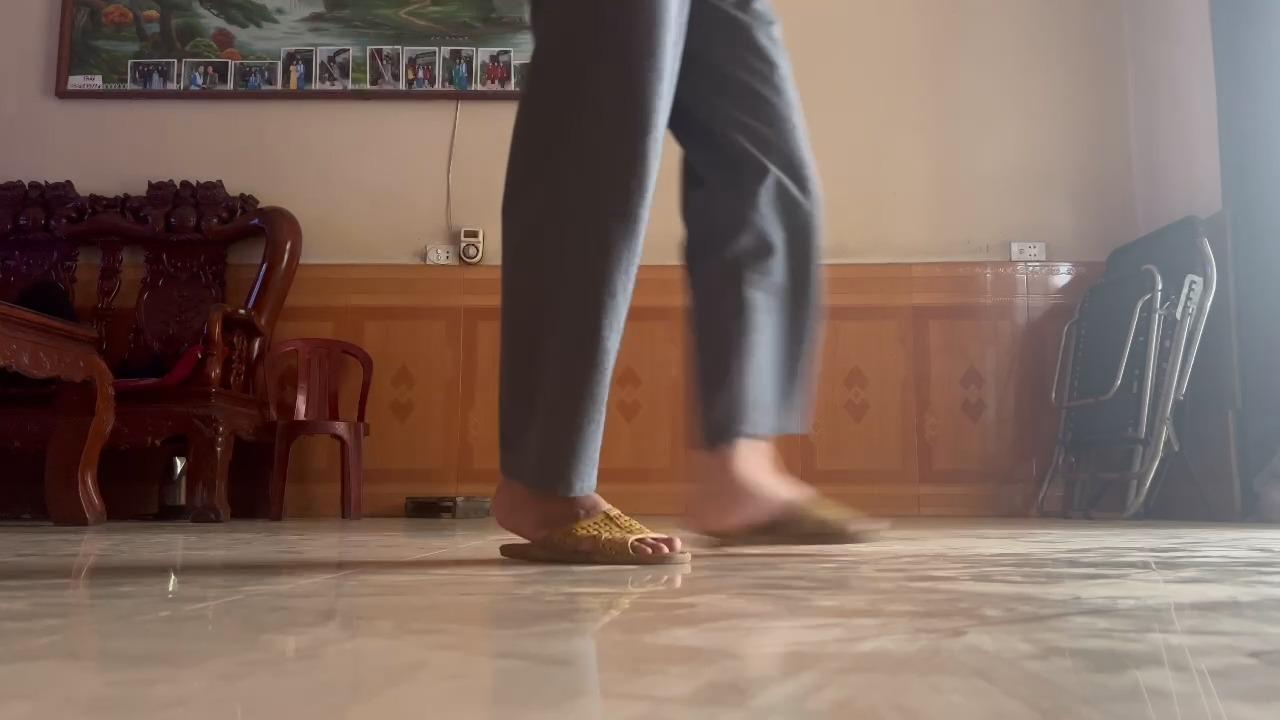no-boot: (483, 485, 690, 573), (693, 476, 907, 553)
